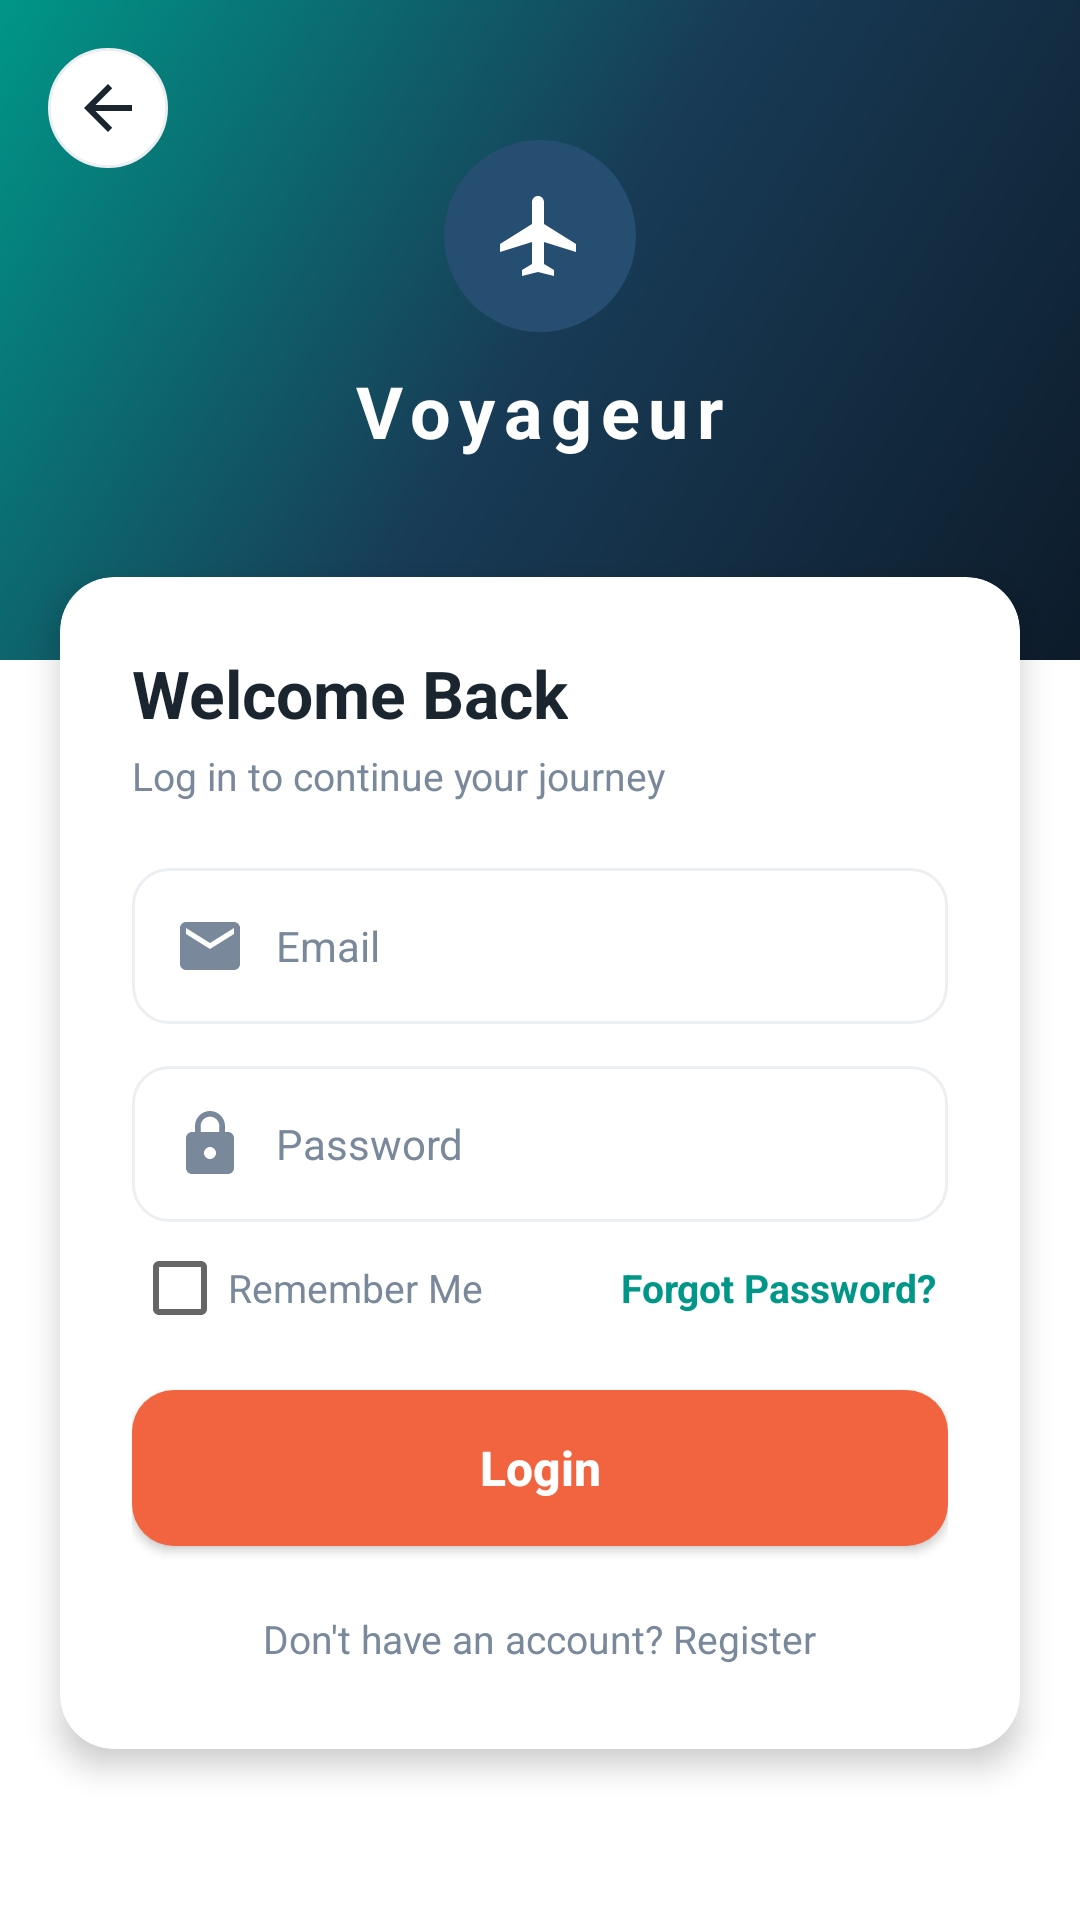

Named icons in this screenshot (1080*1920) and their centers, (x,y):
airplane: (540,236)
Back: (108,108)
